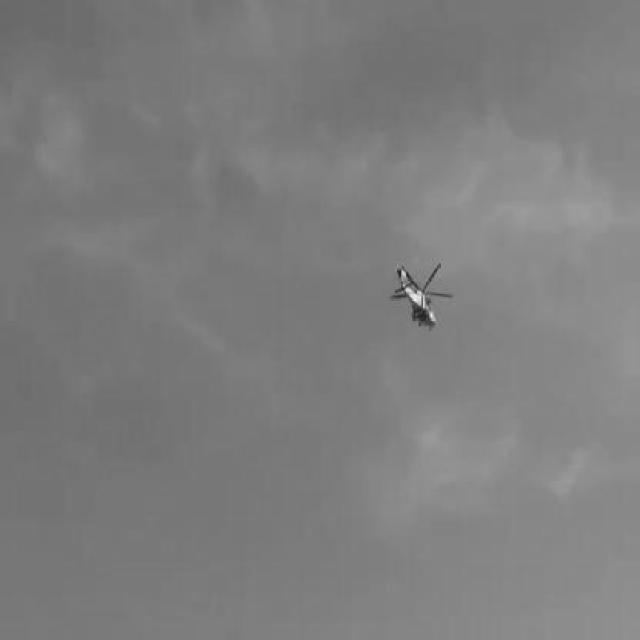helikopter: (388, 264, 448, 328)
